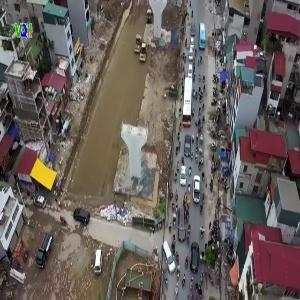drone: (152, 12, 210, 70)
